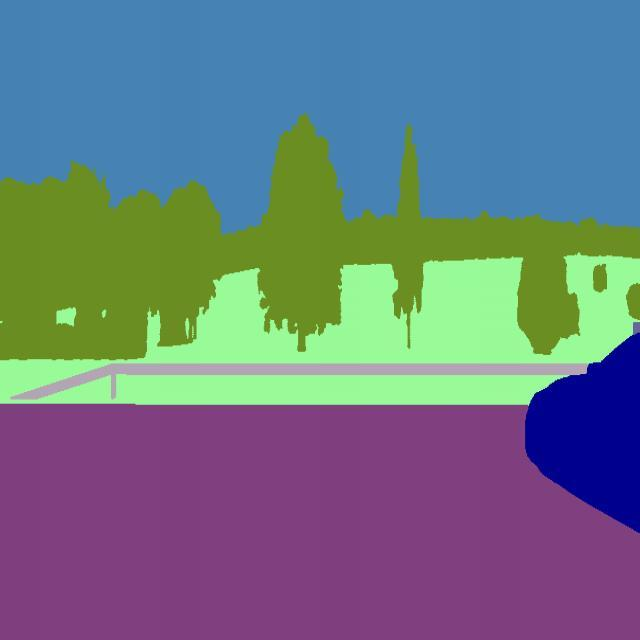unsafe: (523, 323, 640, 559)
